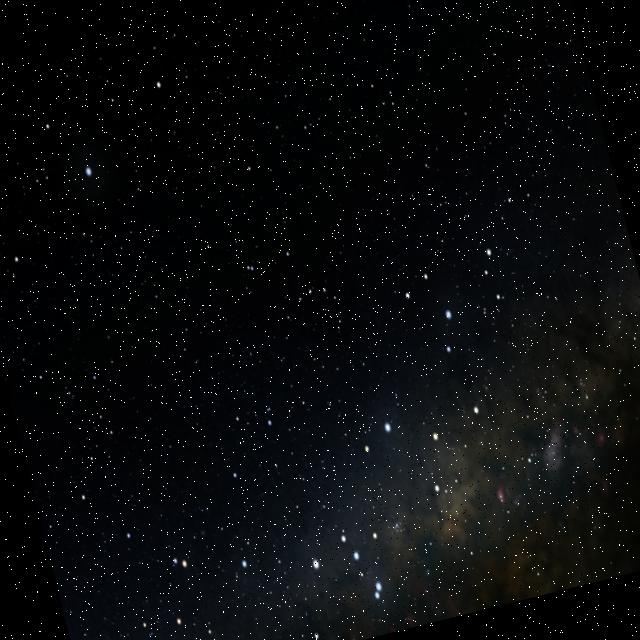Corona Australis: (276, 277, 364, 414)
